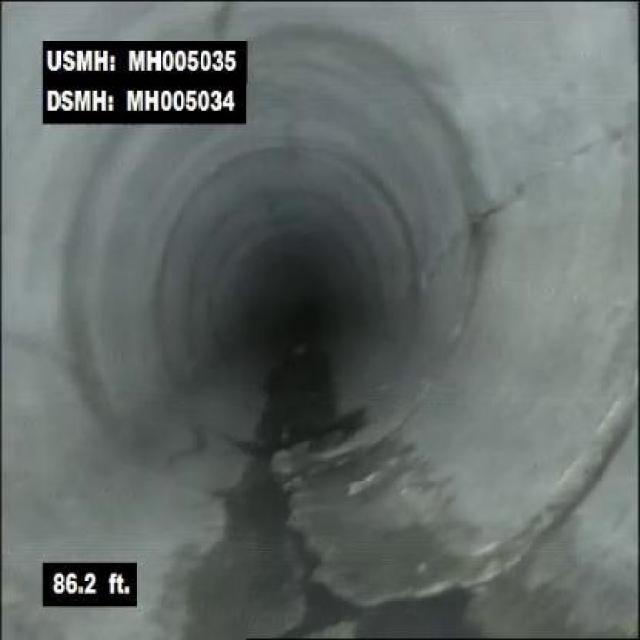Buckling: (266, 469, 360, 637)
Crack: (483, 120, 639, 218)
